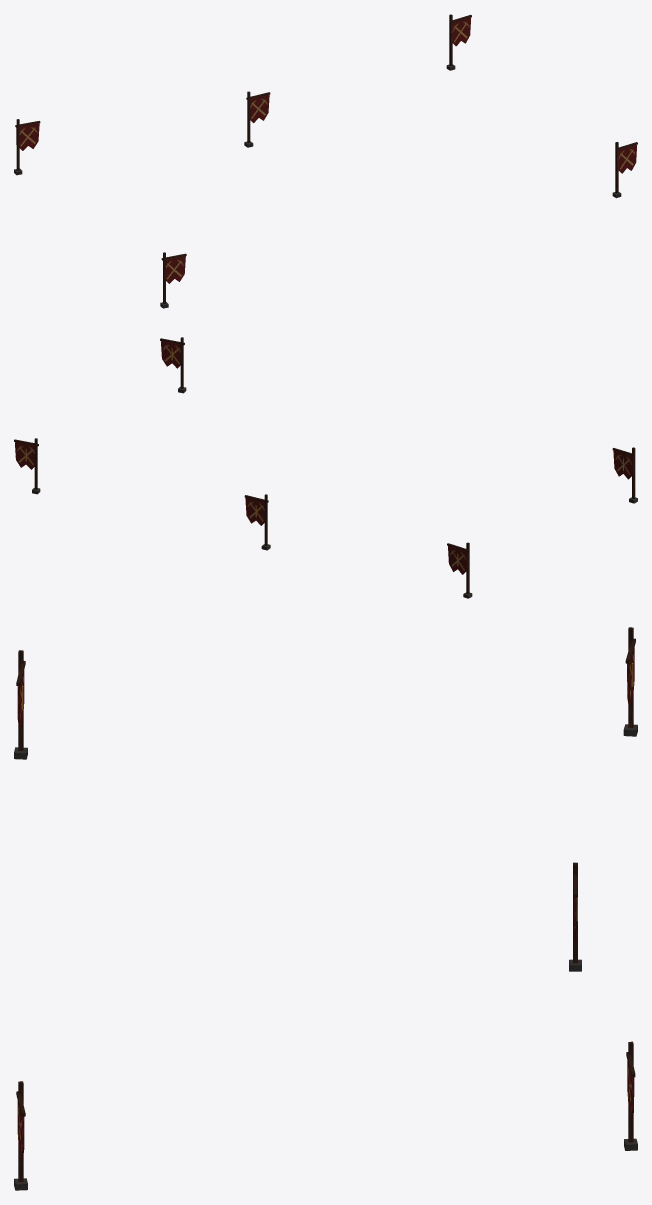
Rendered from oxblood_banners.glb.
3 renders of one model, top to bottom at view 1: azimuth 30°, elevation 25°; view 2: azimuth 150°, elevation 25°; view 3: azimuth 270°, elevation 25°, orthographic. The views are drawn at different scales.
Parts seen in each view (by area): view 1: oxblood_banners; view 2: oxblood_banners; view 3: oxblood_banners.
Part boxes in pixels (left/top/right/bottom): oxblood_banners: left=14, top=14, right=637, bottom=308; oxblood_banners: left=14, top=337, right=637, bottom=598; oxblood_banners: left=14, top=627, right=637, bottom=1190.
Size of the model in its own units: 48.47 by 6.86 by 28.14.
1 material, 1 textured.
